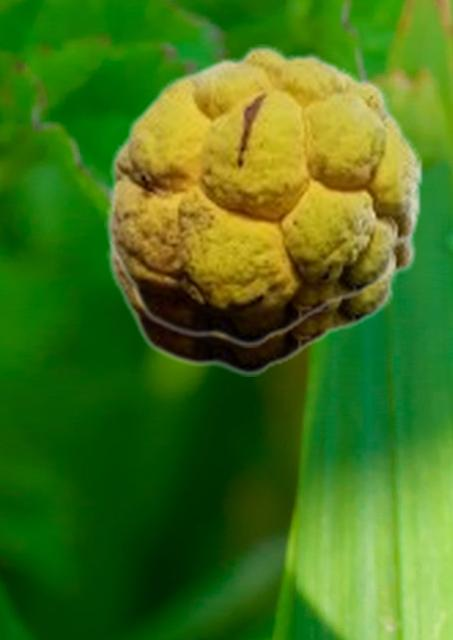atis: (104, 44, 423, 346), (106, 187, 421, 375)
